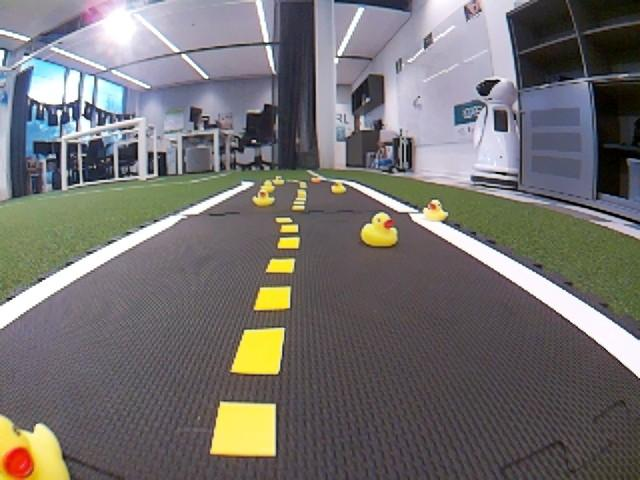Duckies: (1, 416, 67, 480), (361, 213, 397, 247), (422, 200, 447, 220), (253, 191, 275, 207), (331, 182, 346, 192), (260, 181, 275, 191), (273, 177, 283, 184)
